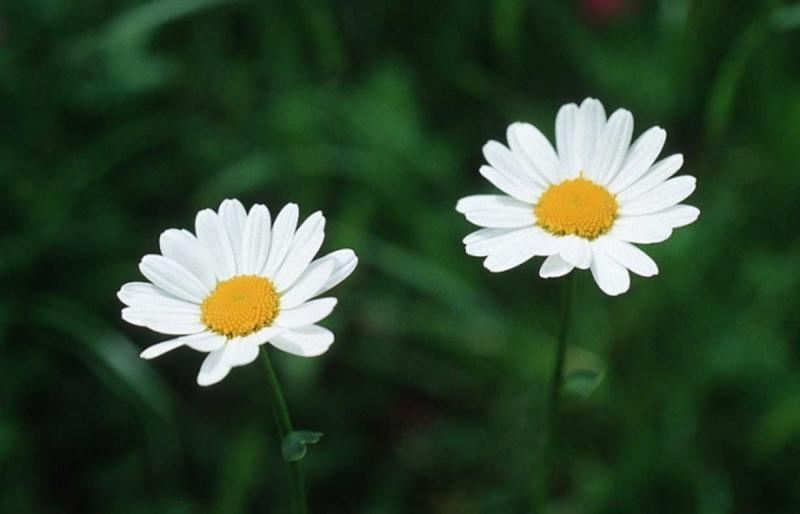papatya: (99, 187, 361, 386)
